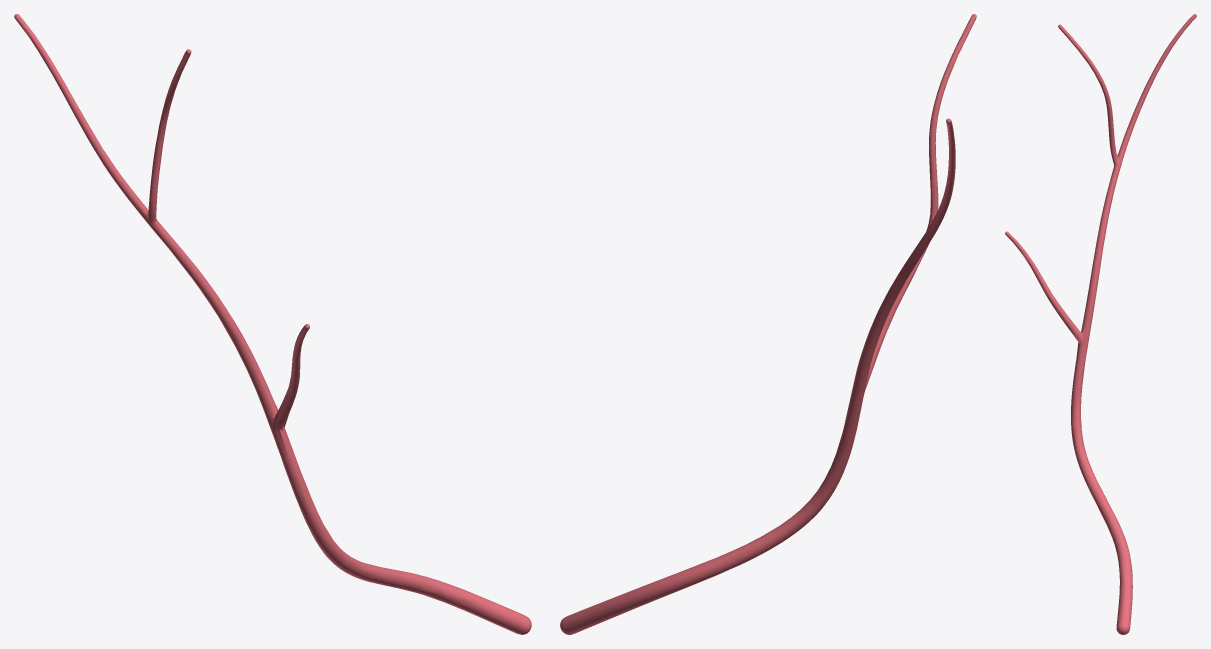
Rendered from fma79529_fj5023.glb.
The picture shows the model from 3 angles, left to right: view 1: azimuth 30°, elevation 25°; view 2: azimuth 150°, elevation 25°; view 3: azimuth 270°, elevation 25°; orthographic projection. The views are drawn at different scales.
Parts seen in each view (by area): view 1: FMA79529_FJ5023; view 2: FMA79529_FJ5023; view 3: FMA79529_FJ5023.
Part boxes in pixels (box(x1,y1,x2,y2)): FMA79529_FJ5023: box(14, 14, 531, 634); FMA79529_FJ5023: box(560, 14, 976, 634); FMA79529_FJ5023: box(1005, 14, 1196, 634).
Bounding box in the file's own units: 0.0446 × 0.0655 × 0.0235.
